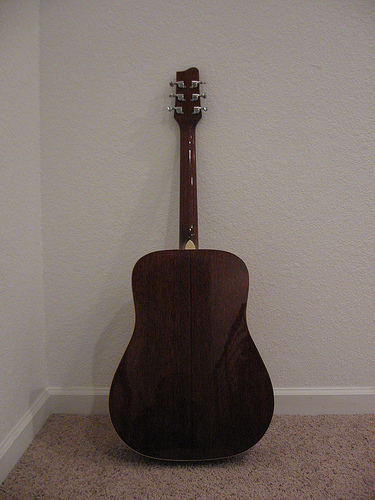guitar: (105, 65, 275, 464)
